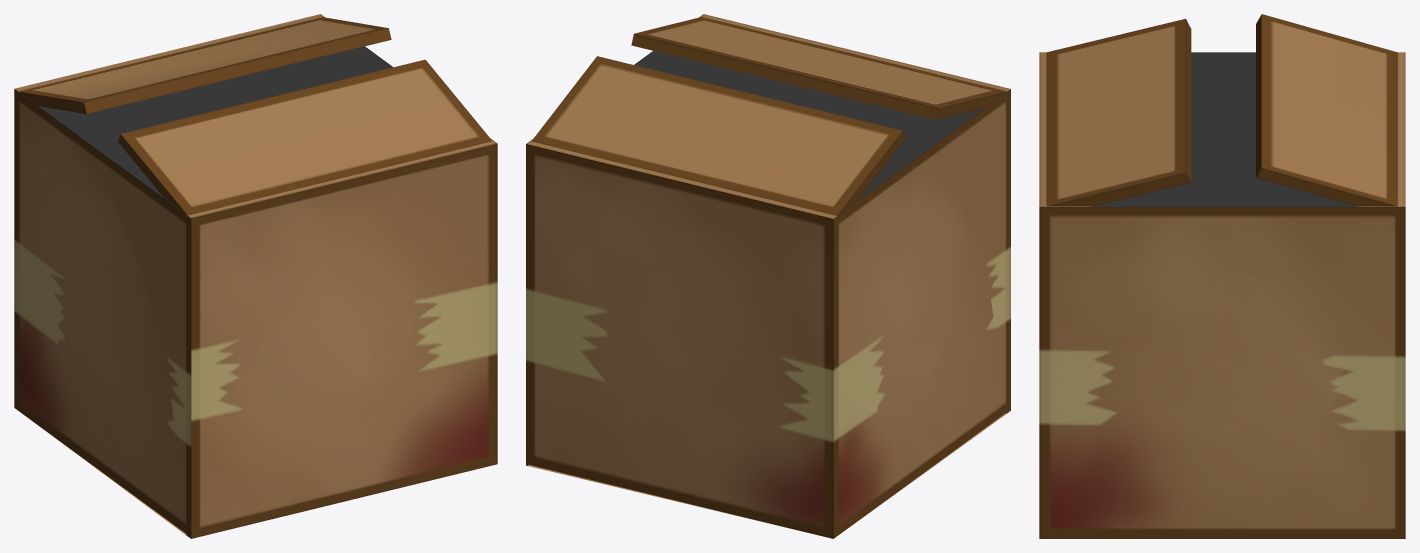
File: boxv1.fbx
The picture shows the model from 3 angles, left to right: view 1: azimuth 30°, elevation 25°; view 2: azimuth 150°, elevation 25°; view 3: azimuth 270°, elevation 25°; orthographic projection. The views are drawn at different scales.
Parts seen in each view (by area): view 1: pCube10; view 2: pCube10; view 3: pCube10.
Boxes of the visible parts, x1,y1,x2,y2 form: pCube10: (14, 14, 497, 538); pCube10: (526, 14, 1010, 538); pCube10: (1039, 14, 1405, 538).
Size of the model in its own units: 4.21 by 4.7 by 4.21.
Materials: 1 (1 with a texture image).
